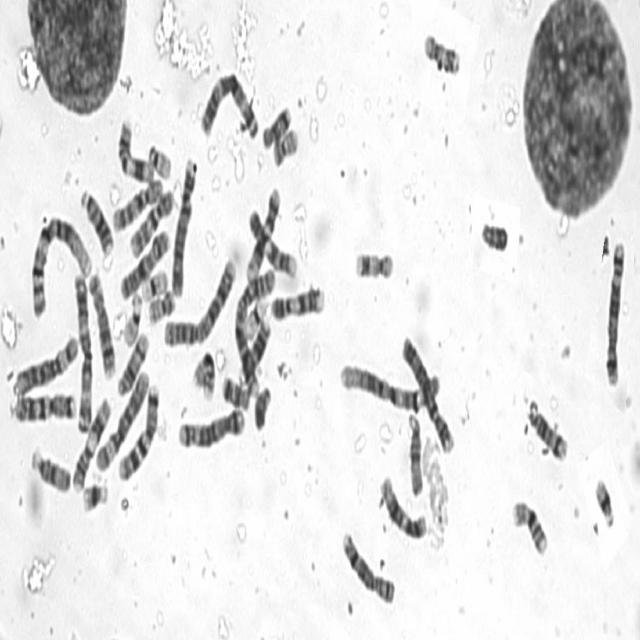A1: (27, 212, 95, 316), (337, 357, 440, 413)
A2: (161, 253, 237, 350), (234, 262, 276, 394)
A3: (197, 68, 259, 141), (71, 268, 93, 435)
B4: (399, 330, 455, 456), (170, 154, 194, 301)
B5: (602, 237, 626, 387), (176, 402, 246, 447)
C10: (127, 184, 175, 259), (110, 172, 163, 233)
C11: (70, 394, 112, 495), (116, 114, 156, 186)
C12: (244, 186, 281, 284), (377, 473, 427, 542)
C6: (94, 366, 150, 472), (11, 338, 80, 399)
C7: (116, 378, 159, 483), (12, 387, 76, 420)
C8: (339, 527, 396, 606), (87, 268, 116, 381)
C9: (246, 201, 298, 279), (268, 283, 326, 323)
D13: (78, 182, 114, 258), (236, 316, 272, 387)
D14: (524, 396, 568, 463), (115, 327, 148, 398)
D15: (30, 443, 70, 494), (406, 408, 424, 497)
E16: (508, 500, 547, 554), (190, 346, 216, 402)
E17: (422, 29, 461, 78), (352, 245, 396, 282)
E18: (260, 102, 293, 150), (220, 372, 250, 412)
F19: (243, 294, 269, 342), (140, 266, 170, 304)
F20: (270, 124, 300, 167), (146, 286, 176, 326)
G21: (593, 472, 615, 529), (80, 478, 109, 513)
G22: (121, 288, 143, 348), (146, 140, 172, 181)
X: (117, 224, 171, 304)
Y: (479, 216, 509, 253), (251, 381, 272, 431)
